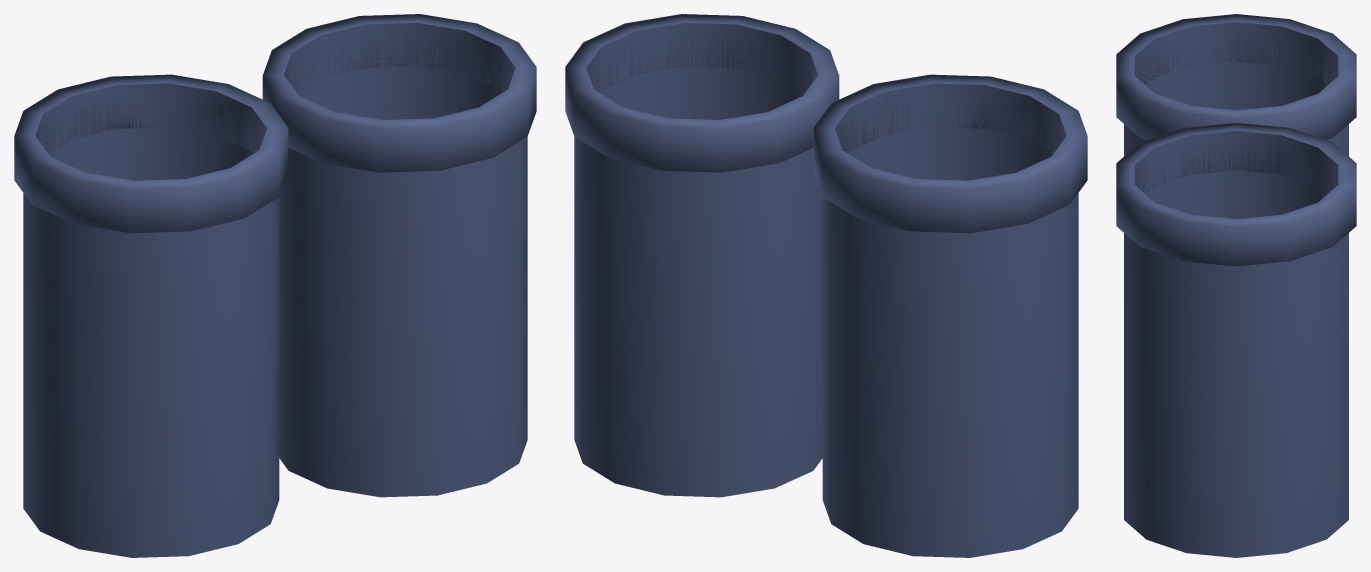
The model's file is denim_leggings.glb.
3 renders of one model, left to right at view 1: azimuth 30°, elevation 25°; view 2: azimuth 150°, elevation 25°; view 3: azimuth 270°, elevation 25°, orthographic. The views are drawn at different scales.
Parts seen in each view (by area): view 1: denim_leggings_LegL, denim_leggings_LegR; view 2: denim_leggings_LegL, denim_leggings_LegR; view 3: denim_leggings_LegR, denim_leggings_LegL.
Part boxes in pixels (<box>): denim_leggings_LegL: <box>14,74,288,557</box>; denim_leggings_LegR: <box>262,14,536,497</box>; denim_leggings_LegL: <box>813,74,1087,557</box>; denim_leggings_LegR: <box>565,14,839,497</box>; denim_leggings_LegR: <box>1116,123,1356,557</box>; denim_leggings_LegL: <box>1116,14,1356,155</box>.
Bounding box in the file's own units: 0.372 × 0.272 × 0.1774.
